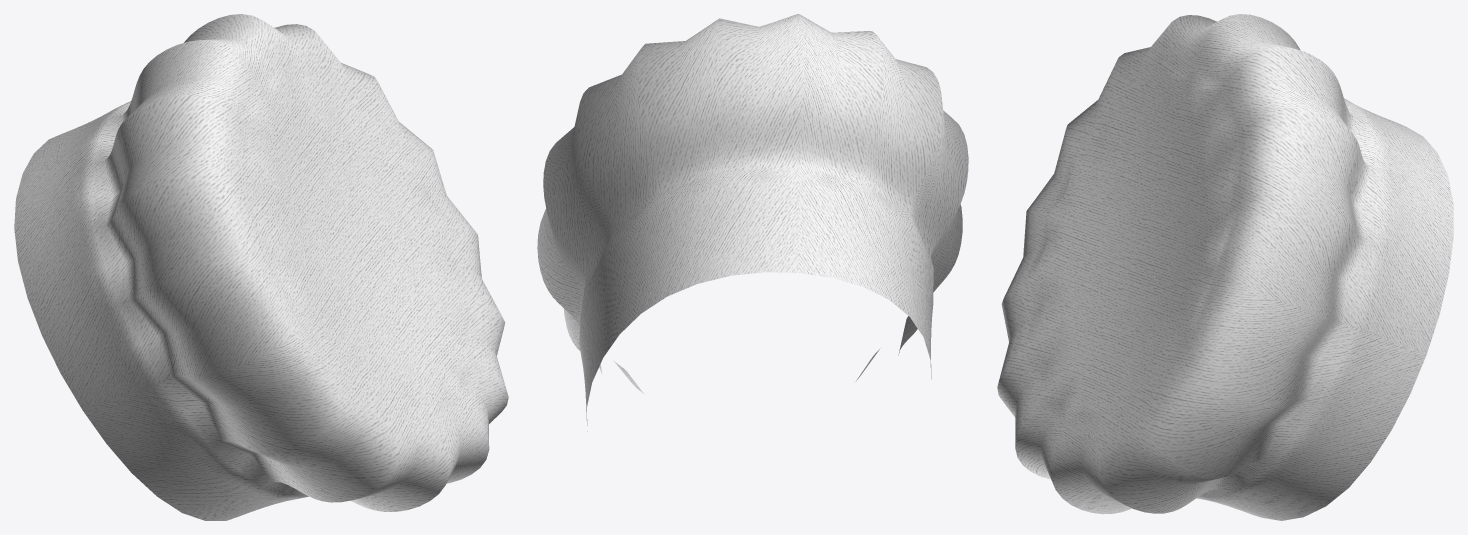
Rendered from chefhat.glb.
3 renders of one model, left to right at view 1: azimuth 30°, elevation 25°; view 2: azimuth 150°, elevation 25°; view 3: azimuth 270°, elevation 25°, orthographic. The views are drawn at different scales.
Parts seen in each view (by area): view 1: chefhat_1; view 2: chefhat_1; view 3: chefhat_1.
Boxes of the visible parts, box(x1,y1,x2,y2) form: chefhat_1: box(14, 14, 508, 520); chefhat_1: box(537, 14, 968, 431); chefhat_1: box(997, 14, 1453, 520).
Size of the model in its own units: 13.52 by 15.45 by 13.49.
1 material, 1 textured.
